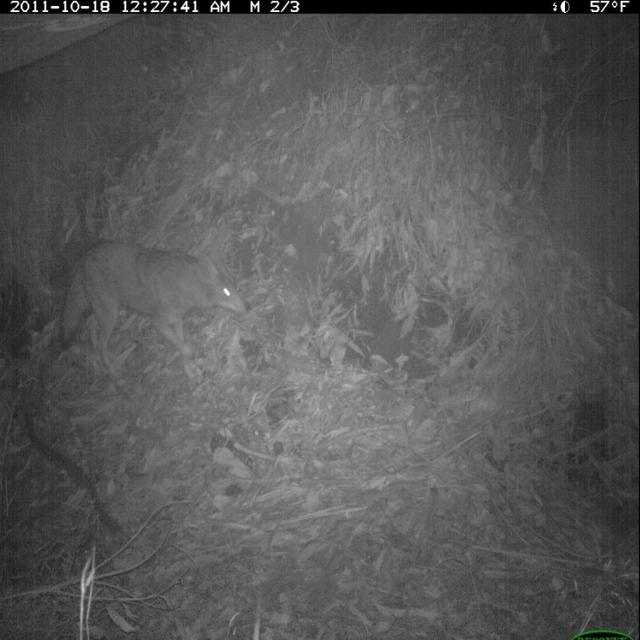coyote: (57, 235, 257, 379)
